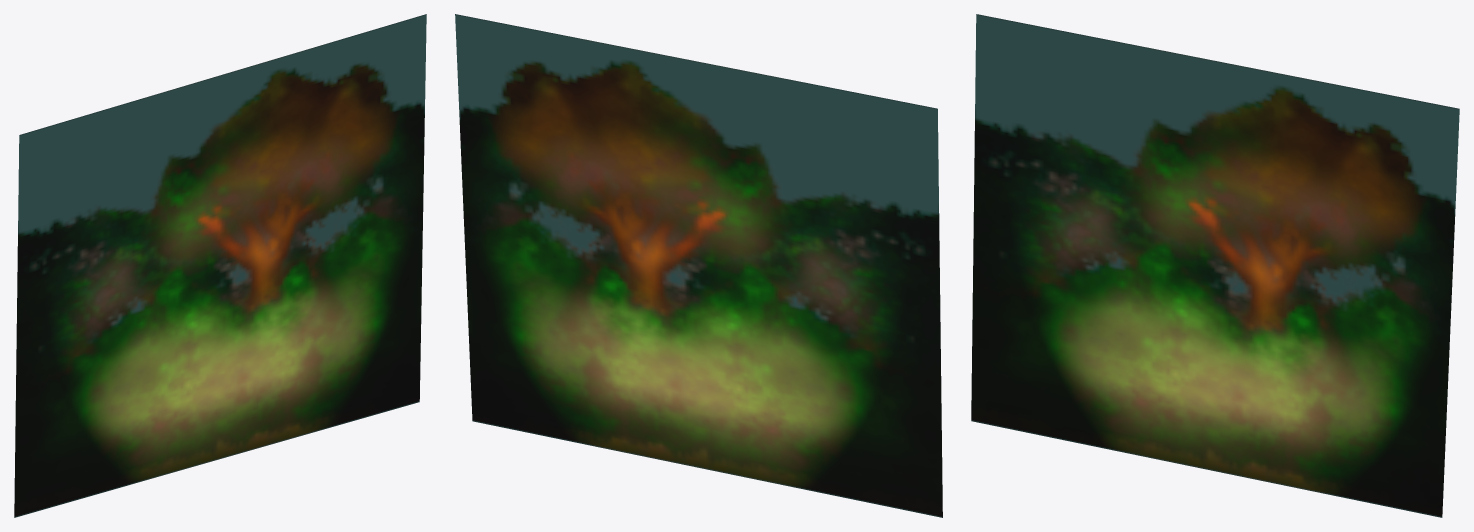
The model's file is tree02.glb.
3 renders of one model, left to right at view 1: azimuth 30°, elevation 25°; view 2: azimuth 150°, elevation 25°; view 3: azimuth 330°, elevation 25°, orthographic. The views are drawn at different scales.
Parts seen in each view (by area): view 1: tree02; view 2: tree02; view 3: tree02.
Part boxes in pixels (x1,y1,x2,y2): tree02: (14,14,426,517); tree02: (455,14,942,517); tree02: (971,14,1459,517).
Size of the model in its own units: 1556 by 1307 by 138.
Materials: 1 (1 with a texture image).
